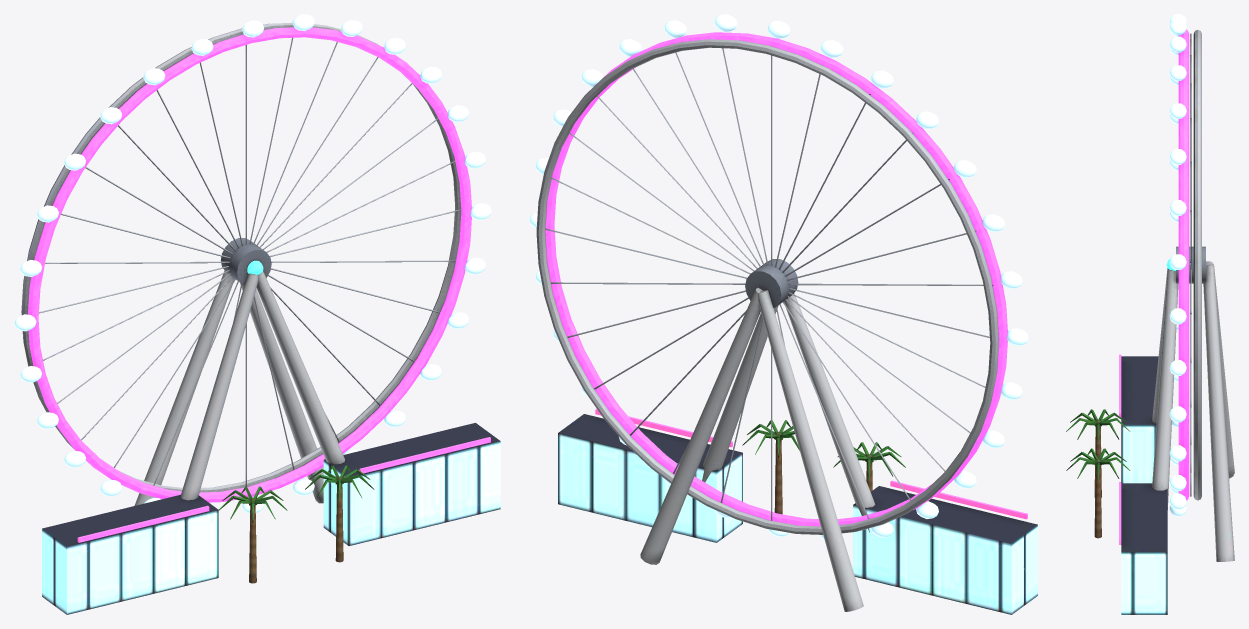
File: noria.glb
3 views of the same model, side by side, from view 1: azimuth 30°, elevation 25°; view 2: azimuth 150°, elevation 25°; view 3: azimuth 270°, elevation 25° (orthographic). The views are drawn at different scales.
Visible parts, largest first — view 1: noria; view 2: noria; view 3: noria.
Part boxes in pixels (bbox=[...]): noria: bbox=[14, 14, 500, 614]; noria: bbox=[529, 14, 1037, 614]; noria: bbox=[1066, 14, 1234, 614].
Bounding box in the file's own units: 43.78 × 45.96 × 14.57.
Materials: 1 (1 with a texture image).
